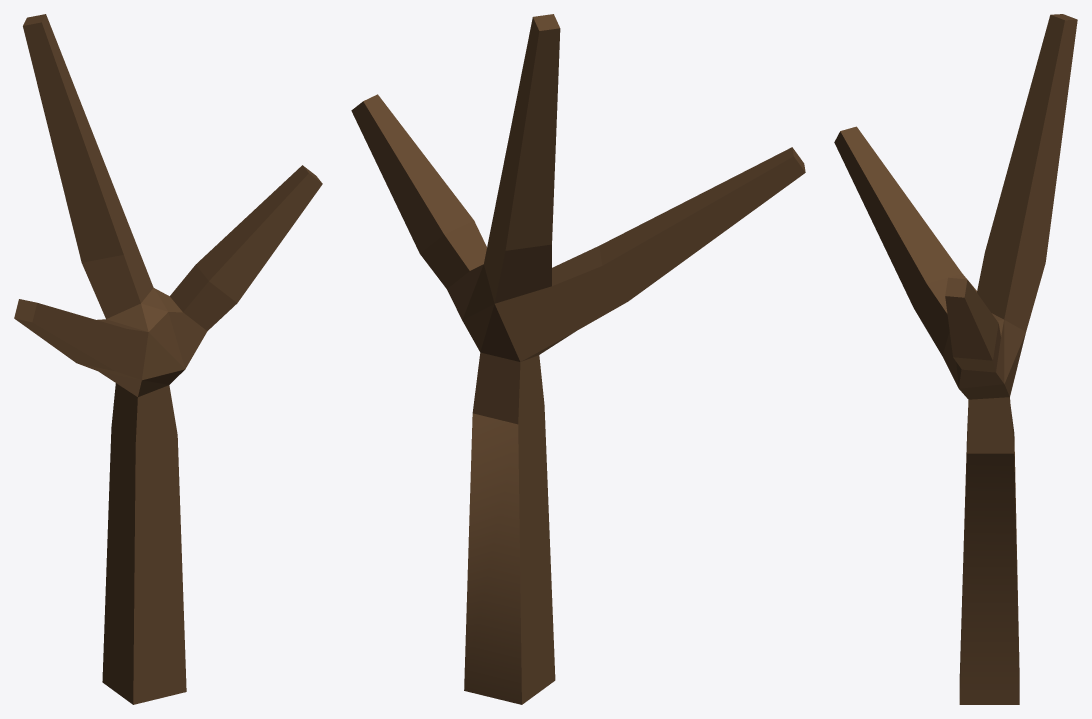
Rendered from PohonTanpaDaun1.fbx.
3 renders of one model, left to right at view 1: azimuth 30°, elevation 25°; view 2: azimuth 150°, elevation 25°; view 3: azimuth 270°, elevation 25°, orthographic. The views are drawn at different scales.
Visible parts, largest first — view 1: tree_5a; view 2: tree_5a; view 3: tree_5a.
Boxes of the visible parts, left/top/right/bottom form: tree_5a: left=14, top=14, right=322, bottom=704; tree_5a: left=351, top=14, right=805, bottom=704; tree_5a: left=834, top=14, right=1077, bottom=704.
Size of the model in its own units: 218 by 380 by 130.
